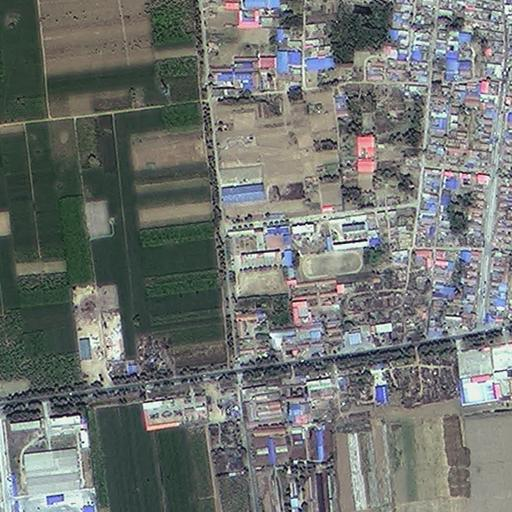school: (290, 216, 370, 278)
